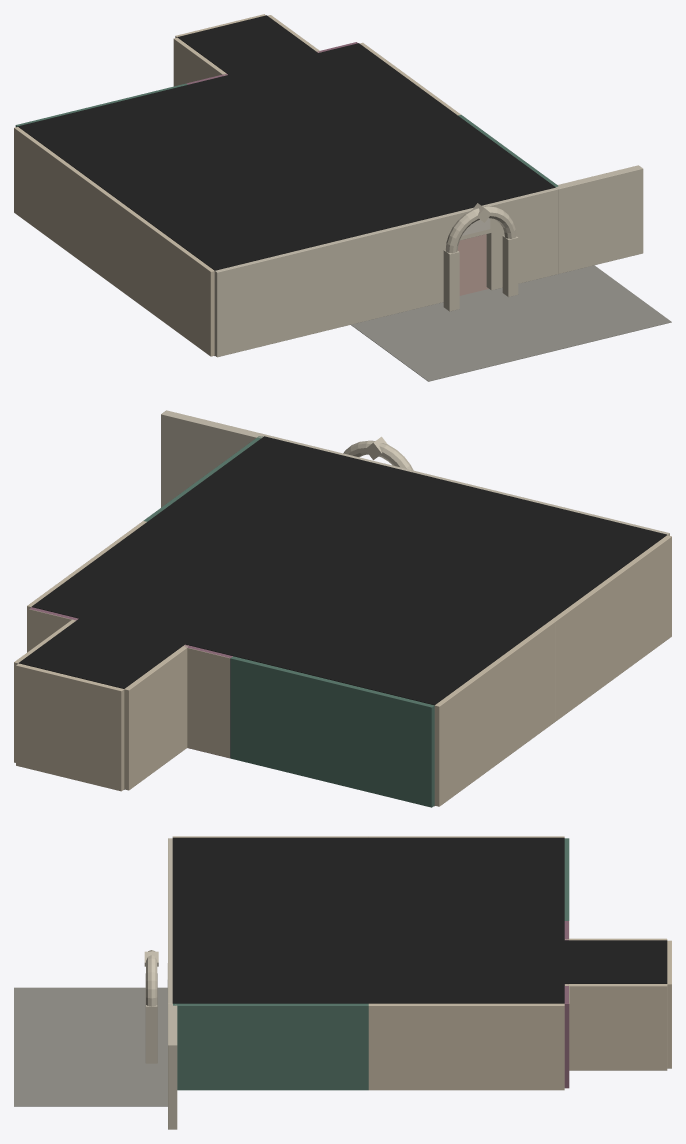
File: elmorian.glb
The picture shows the model from 3 angles, top to bottom: view 1: azimuth 30°, elevation 25°; view 2: azimuth 150°, elevation 25°; view 3: azimuth 270°, elevation 25°; orthographic projection. The views are drawn at different scales.
Parts seen in each view (by area): view 1: wall_facade, floor_forecourt, void_stack, void_gaze, void_speech, void_sixfold, wall_r2_west, wall_r3_west, wall_facade_e, void_ancestor, floor_gaze, wall_alc_west (+3 smaller); view 2: void_speech, void_stack, void_sixfold, void_gaze, wall_r3_north, wall_r3_west, wall_r2_west, wall_alc_north, wall_alc_west, void_ancestor, wall_r4_north, wall_facade_e (+3 smaller); view 3: floor_forecourt, wall_r4_east, wall_r1_east, void_gaze, void_stack, void_speech, void_sixfold, wall_alc_east, void_ancestor, wall_facade_e, wall_facade, arch_pillar_e (+4 smaller).
Part boxes in pixels (x1,y1,x2,y2): wall_facade: (214, 187, 557, 357); floor_forecourt: (351, 265, 671, 381); void_stack: (116, 157, 384, 270); void_gaze: (287, 115, 555, 228); void_speech: (18, 84, 286, 198); void_sixfold: (189, 43, 456, 156); wall_r2_west: (112, 199, 214, 356); wall_r3_west: (14, 127, 115, 283); wall_facade_e: (556, 165, 643, 273); void_ancestor: (177, 15, 317, 74); floor_gaze: (458, 234, 488, 295); wall_alc_west: (173, 37, 226, 86); void_speech: (233, 570, 550, 705); void_stack: (350, 485, 666, 619); void_sixfold: (31, 521, 348, 655); void_gaze: (148, 436, 465, 570); wall_r3_north: (230, 656, 434, 807); wall_r3_west: (434, 620, 555, 806); wall_r2_west: (551, 535, 671, 721); wall_alc_north: (16, 663, 124, 791); wall_alc_west: (124, 644, 188, 790); void_ancestor: (19, 618, 185, 688); wall_r4_north: (29, 607, 232, 758); wall_facade_e: (161, 410, 266, 507); floor_forecourt: (14, 987, 167, 1106); wall_r4_east: (368, 1003, 564, 1090); wall_r1_east: (173, 1003, 368, 1090); void_gaze: (172, 920, 368, 1003); void_stack: (172, 837, 368, 920); void_speech: (368, 837, 564, 920); void_sixfold: (368, 920, 564, 1003); wall_alc_east: (565, 984, 667, 1070); void_ancestor: (564, 940, 667, 983); wall_facade_e: (168, 1004, 177, 1129); wall_facade: (168, 838, 172, 1003); arch_pillar_e: (145, 1002, 157, 1063).
Bounding box in the file's own units: 21.2 × 4.52 × 28.2.
